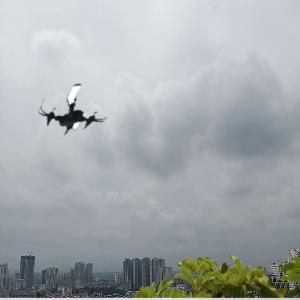drone: (41, 81, 107, 147)
